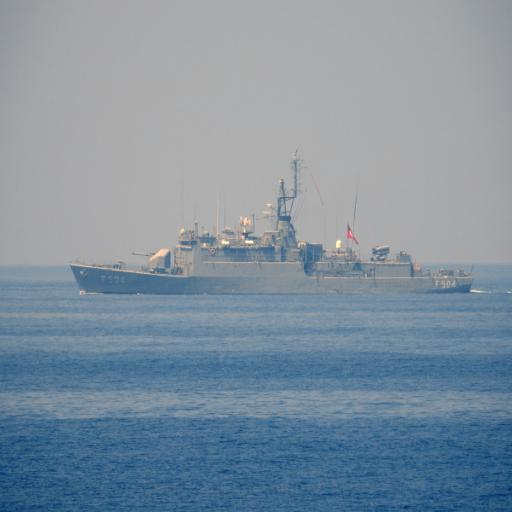Fragata: (68, 143, 478, 301)
